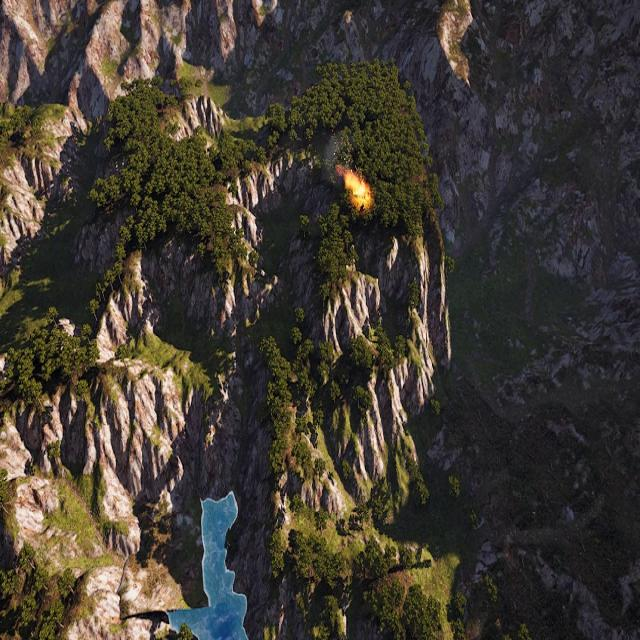fire: (344, 167, 370, 206)
